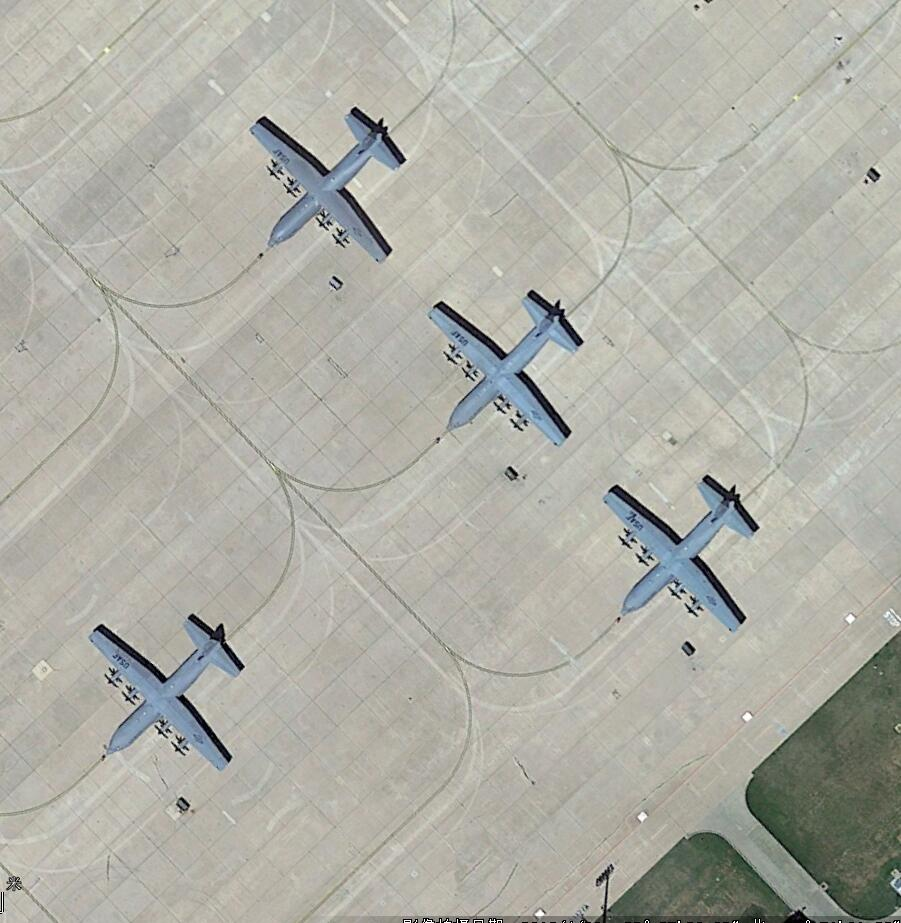A2: (246, 100, 411, 277), (419, 286, 588, 454), (84, 610, 249, 779), (599, 472, 763, 641)
